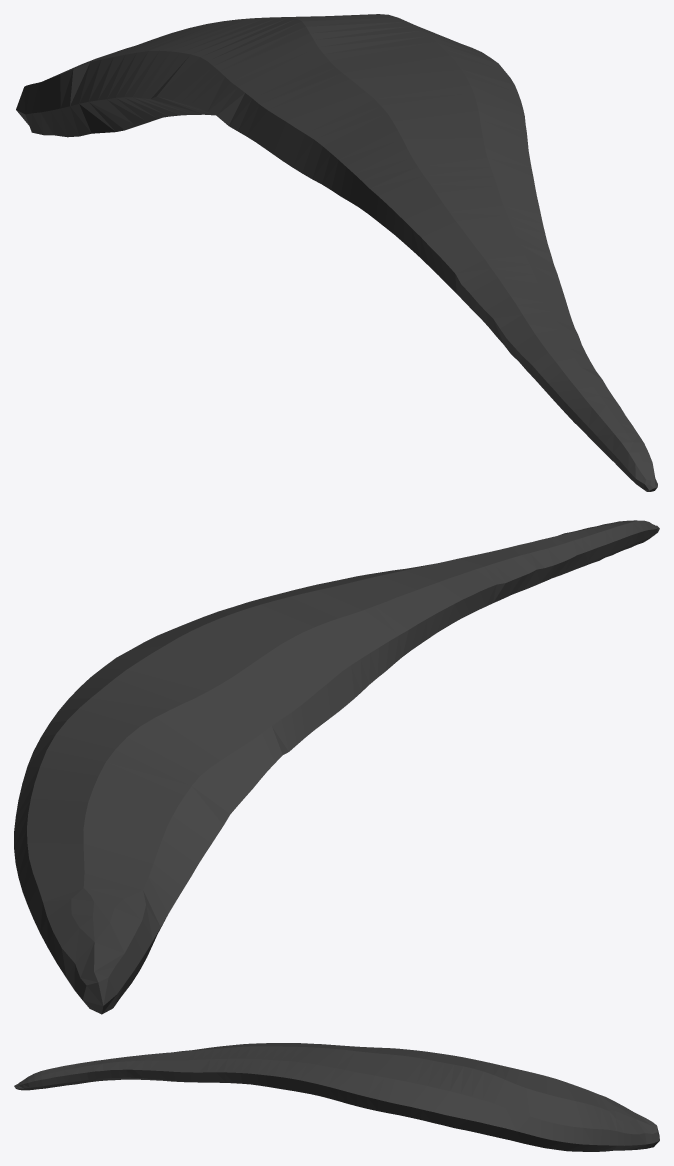
File: occipitalis.glb
3 renders of one model, top to bottom at view 1: azimuth 30°, elevation 25°; view 2: azimuth 150°, elevation 25°; view 3: azimuth 270°, elevation 25°, orthographic. The views are drawn at different scales.
Visible parts, largest first — view 1: occipitalis; view 2: occipitalis; view 3: occipitalis.
Boxes of the visible parts, x1,y1,x2,y2 form: occipitalis: [16, 14, 657, 491]; occipitalis: [14, 520, 659, 1014]; occipitalis: [14, 1043, 659, 1151].
Bounding box in the file's own units: 0.1839 × 0.1458 × 0.7739.
1 material, 1 textured.
